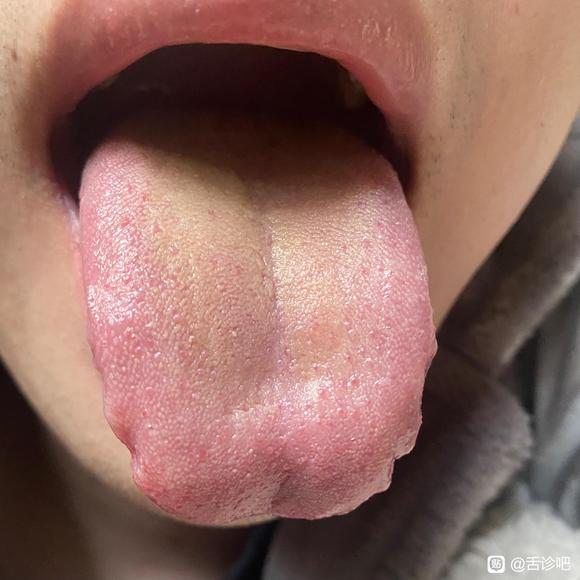hongshe: (77, 97, 436, 528)
huangtaishe: (77, 97, 436, 528)
